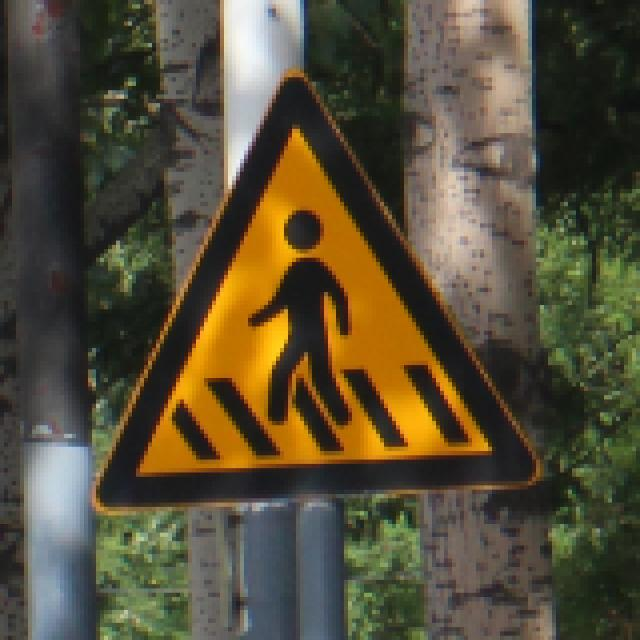Crossing: (71, 59, 555, 528)
